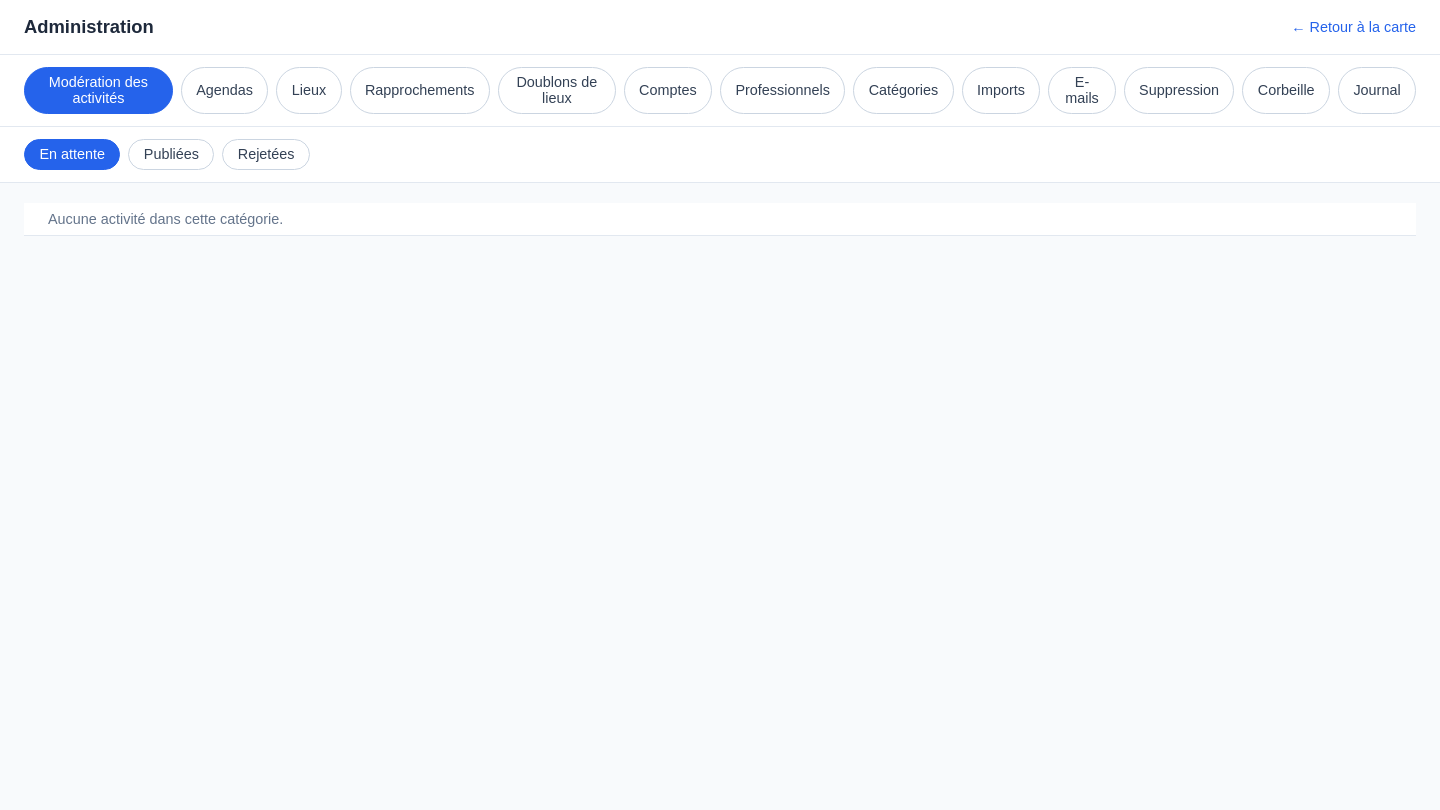
it: AdminPage — recherche d'agendas › filtre sur le nom, sans tenir compte des majuscules ni des accents
Click the button "Agendas" at (225, 90), box [181,67,268,114]
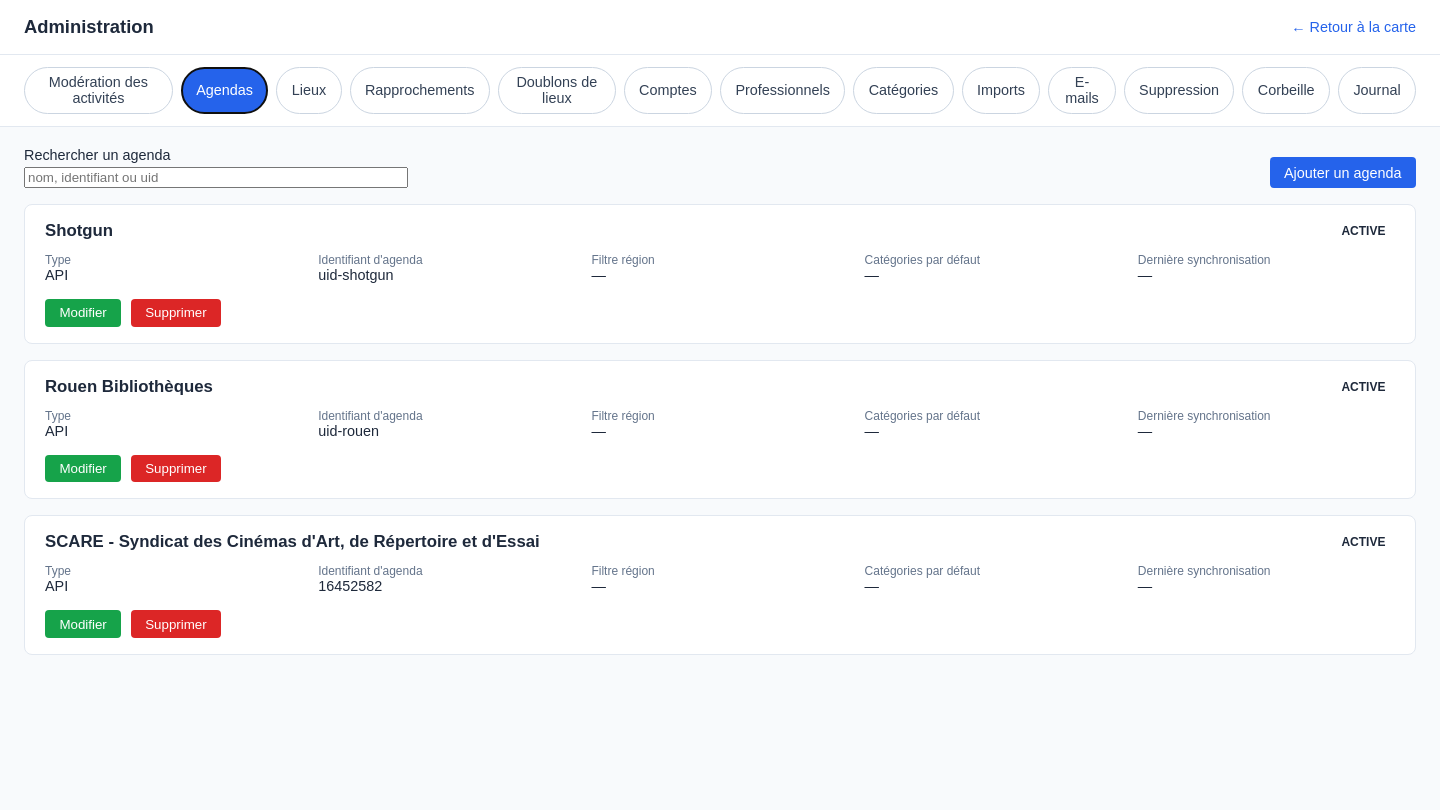
Expected: the heading "Shotgun" is shown, [45,221,113,241]
Type "bibliotheques" into the search field labelled "Rechercher un agenda" at (216, 177), box [24,167,408,188]
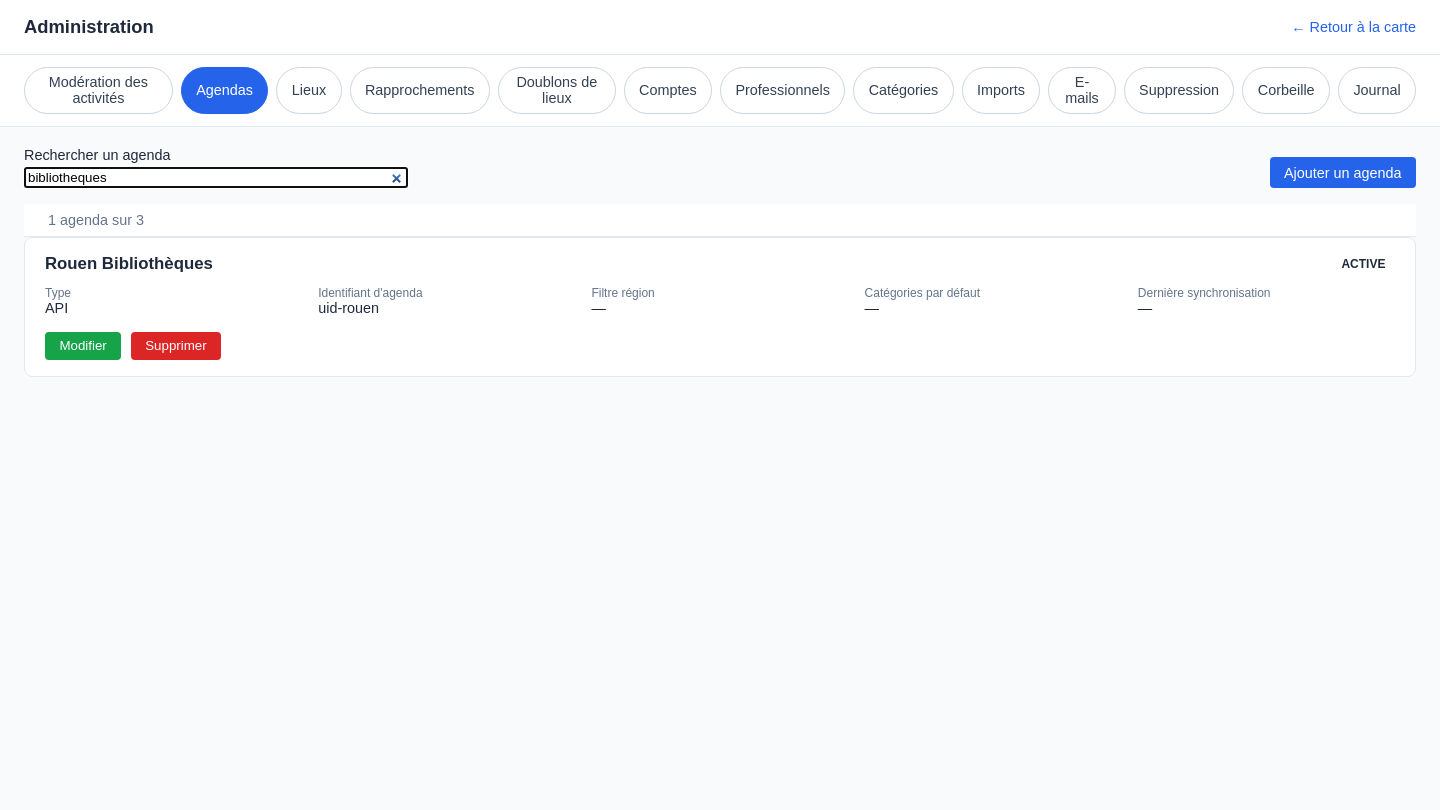
Expected: the text "1 agenda sur 3" is shown, [24,204,1416,237]
